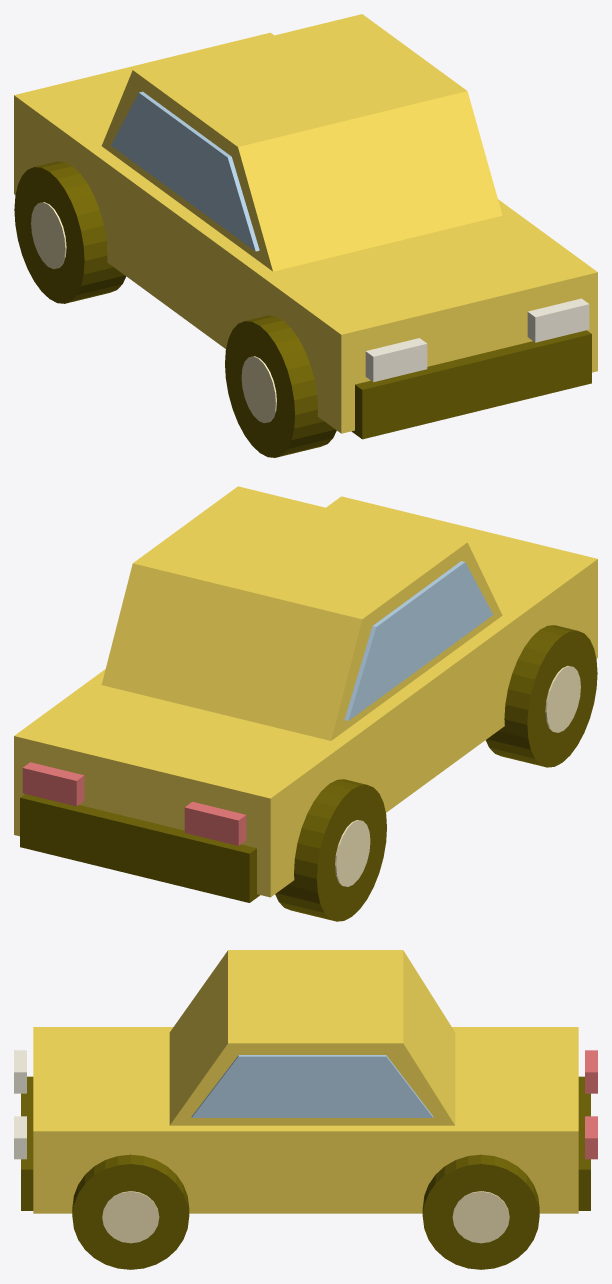
File: corolla.glb
3 renders of one model, top to bottom at view 1: azimuth 30°, elevation 25°; view 2: azimuth 150°, elevation 25°; view 3: azimuth 270°, elevation 25°, orthographic. The views are drawn at different scales.
Parts seen in each view (by area): view 1: Body, Cabin, Bumper_Front, Glass, Wheel_FR, Wheel_RR, Headlight_L, Headlight_R, Hub_RR, Hub_FR; view 2: Body, Cabin, Bumper_Rear, Glass, Wheel_RR, Wheel_FR, Taillight_R, Taillight_L, Hub_FR, Hub_RR; view 3: Body, Cabin, Glass, Wheel_FL, Wheel_RL, Hub_FL, Hub_RL, Bumper_Front, Bumper_Rear, Headlight_R, Taillight_R, Headlight_L (+1 smaller).
Boxes of the visible parts, <box> form: Body: <box>14,32,597,433</box>; Cabin: <box>101,14,502,271</box>; Bumper_Front: <box>351,330,591,439</box>; Glass: <box>111,91,259,251</box>; Wheel_FR: <box>225,315,336,457</box>; Wheel_RR: <box>14,161,126,303</box>; Headlight_L: <box>527,298,589,342</box>; Headlight_R: <box>365,338,427,382</box>; Hub_RR: <box>31,202,66,269</box>; Hub_FR: <box>241,356,276,423</box>; Body: <box>14,496,597,897</box>; Cabin: <box>101,486,502,740</box>; Bumper_Rear: <box>20,794,260,902</box>; Glass: <box>344,561,493,720</box>; Wheel_RR: <box>275,779,386,921</box>; Wheel_FR: <box>485,625,597,767</box>; Taillight_R: <box>184,801,246,845</box>; Taillight_L: <box>22,762,84,806</box>; Hub_FR: <box>545,666,580,732</box>; Hub_RR: <box>335,820,370,886</box>; Body: <box>33,1027,578,1213</box>; Cabin: <box>169,950,455,1125</box>; Glass: <box>191,1055,433,1117</box>; Wheel_FL: <box>72,1154,189,1269</box>; Wheel_RL: <box>422,1154,539,1269</box>; Hub_FL: <box>102,1191,159,1243</box>; Hub_RL: <box>452,1191,509,1243</box>; Bumper_Front: <box>21,1076,33,1210</box>; Bumper_Rear: <box>578,1076,590,1210</box>; Headlight_R: <box>14,1050,26,1093</box>; Taillight_R: <box>585,1050,597,1093</box>; Headlight_L: <box>14,1116,26,1159</box>.
Bounding box in the file's own units: 2.26 × 1.8 × 4.5.
